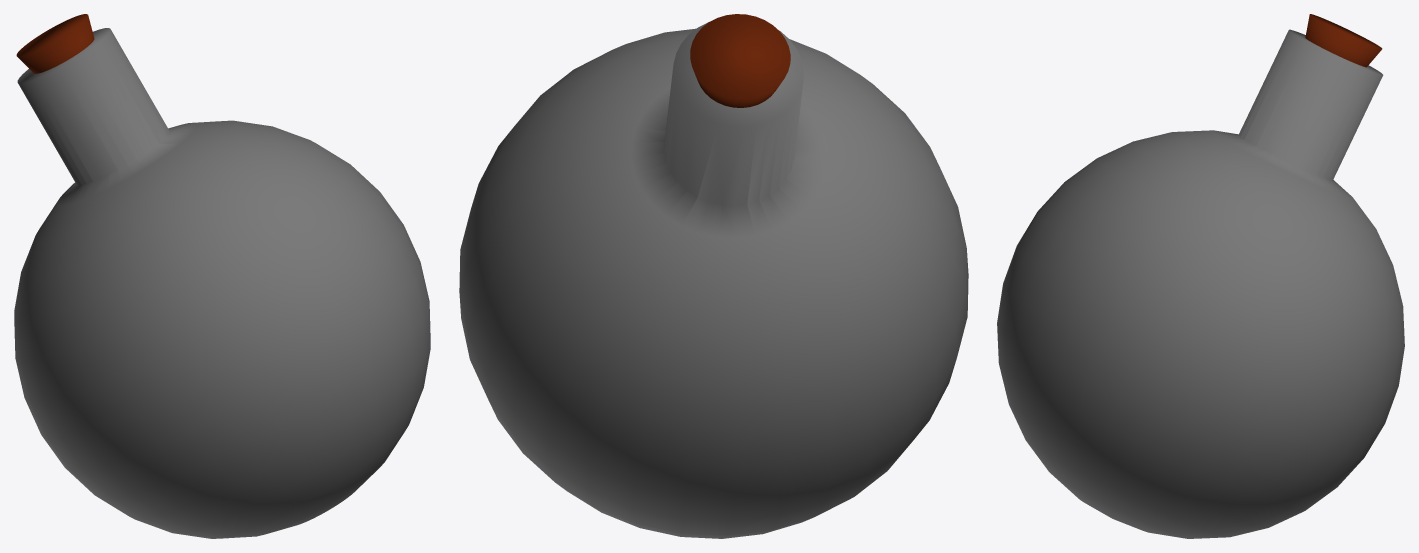
The model's file is Fast.fbx.
3 renders of one model, left to right at view 1: azimuth 30°, elevation 25°; view 2: azimuth 150°, elevation 25°; view 3: azimuth 270°, elevation 25°, orthographic. The views are drawn at different scales.
Parts seen in each view (by area): view 1: Sphere, Cylinder.001; view 2: Sphere, Cylinder.001; view 3: Sphere, Cylinder.001.
Boxes of the visible parts, x1,y1,x2,y2 form: Sphere: (14,28,430,538); Cylinder.001: (16,14,94,73); Sphere: (459,22,968,538); Cylinder.001: (690,14,790,107); Sphere: (997,29,1404,538); Cylinder.001: (1305,14,1382,67).
Size of the model in its own units: 199 by 249 by 199.
